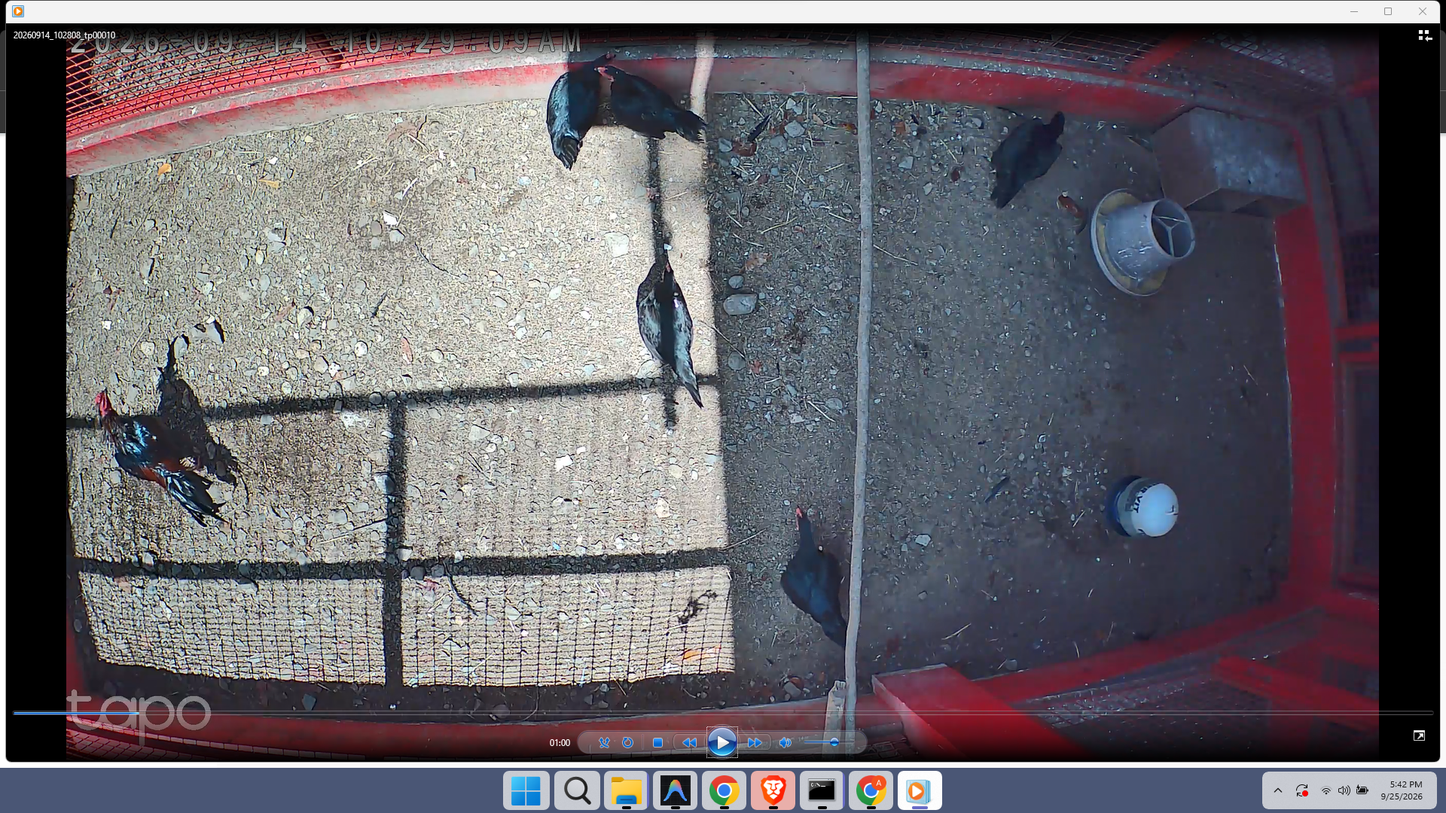Chicken: (630, 258, 708, 420), (775, 503, 846, 656), (589, 63, 714, 149), (546, 48, 616, 167), (986, 112, 1069, 207)
Drinker: (1105, 474, 1180, 540)
Feeder: (1088, 186, 1199, 299)
Rooster: (91, 388, 231, 529)
